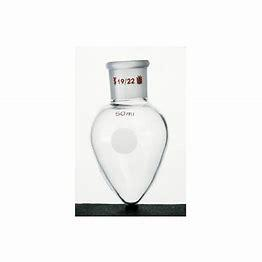Pear shaped flask: (88, 44, 170, 213)
